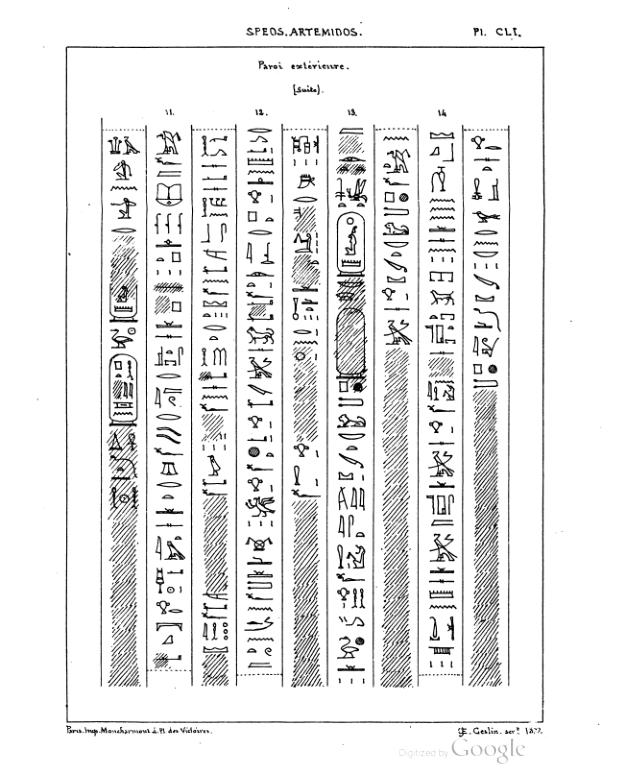circle: (105, 351, 142, 428), (334, 307, 370, 380), (336, 211, 370, 277)
